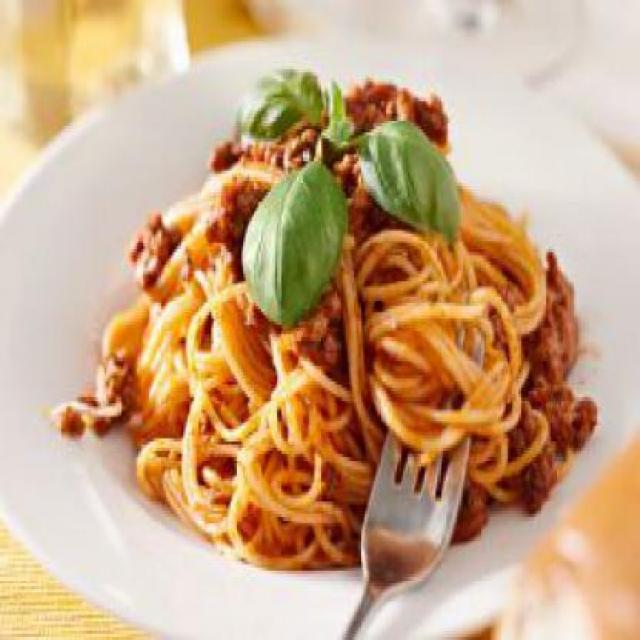Pasta al ragu: (124, 34, 598, 530)
